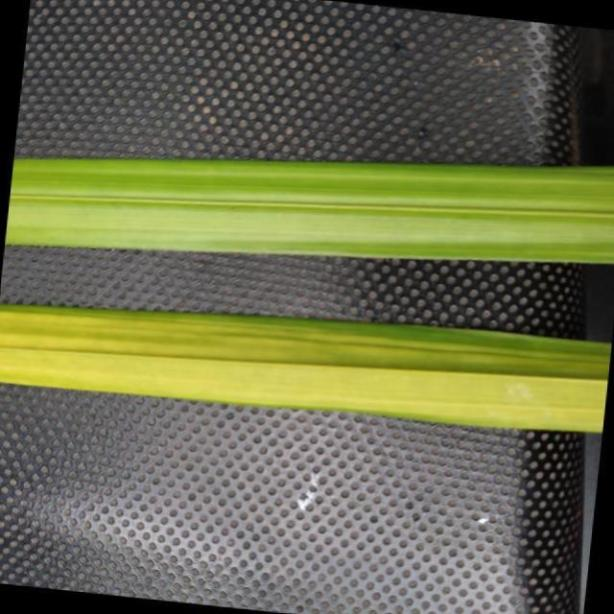nitrogen: (5, 308, 614, 432), (7, 151, 614, 268)
